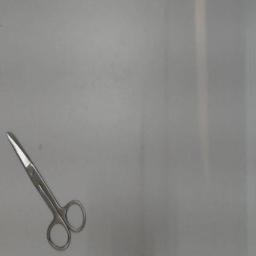Dressing Scissors: (2, 124, 92, 254)
